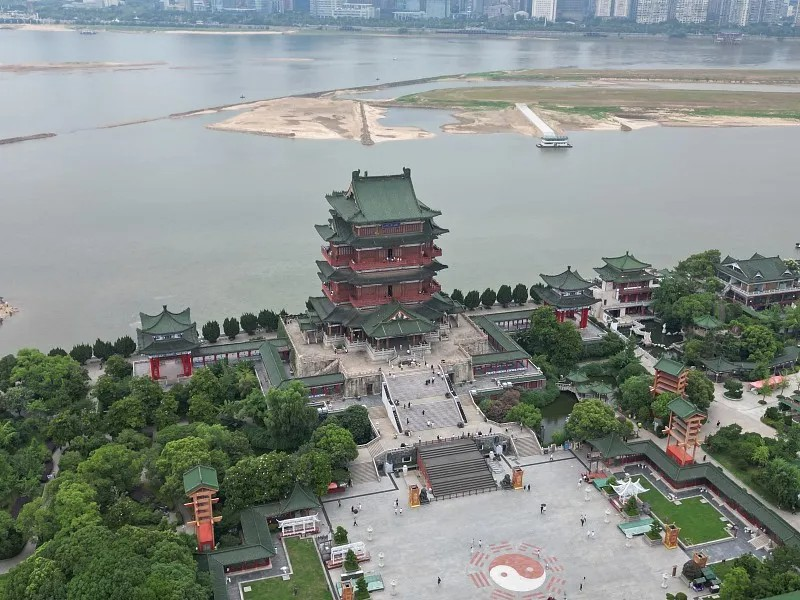Teng: (300, 167, 464, 346)
